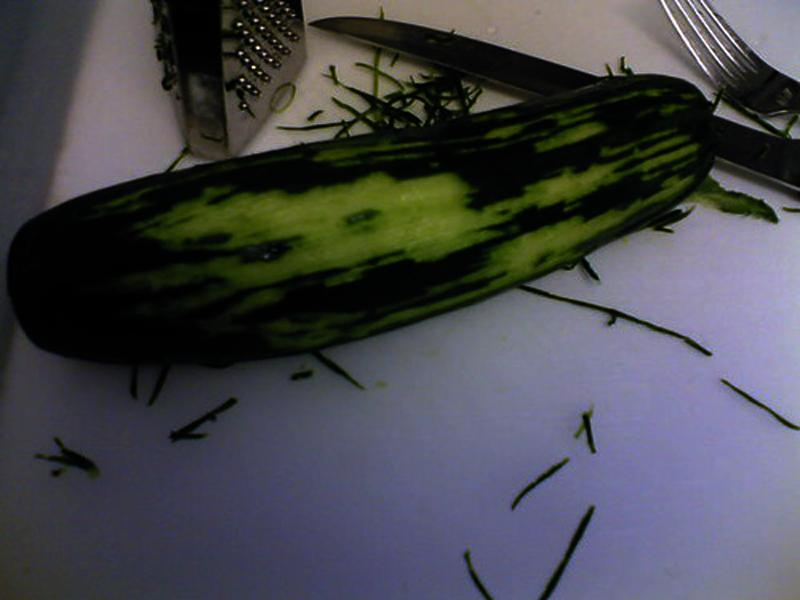Cucumber: (6, 72, 718, 366)
